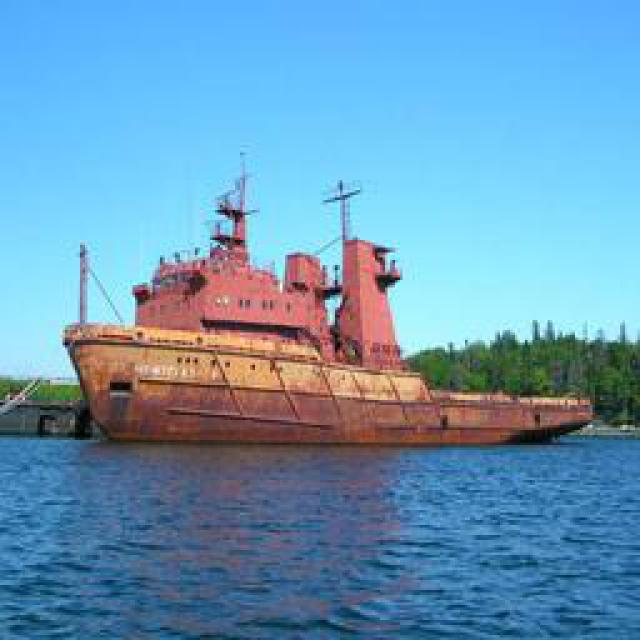Ship: (59, 147, 592, 450)
